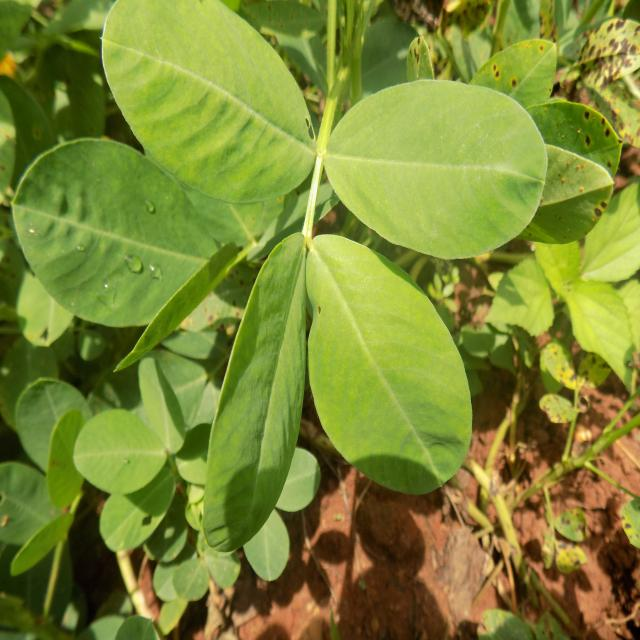Ground nut_healthy: (302, 228, 475, 492), (306, 231, 472, 488), (99, 0, 313, 199), (10, 135, 232, 324), (326, 75, 548, 258), (200, 234, 307, 549)
